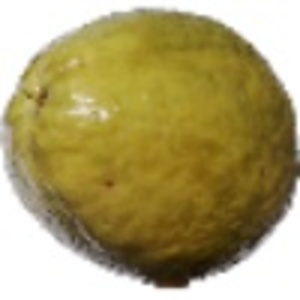goiaba: (5, 10, 295, 287)
